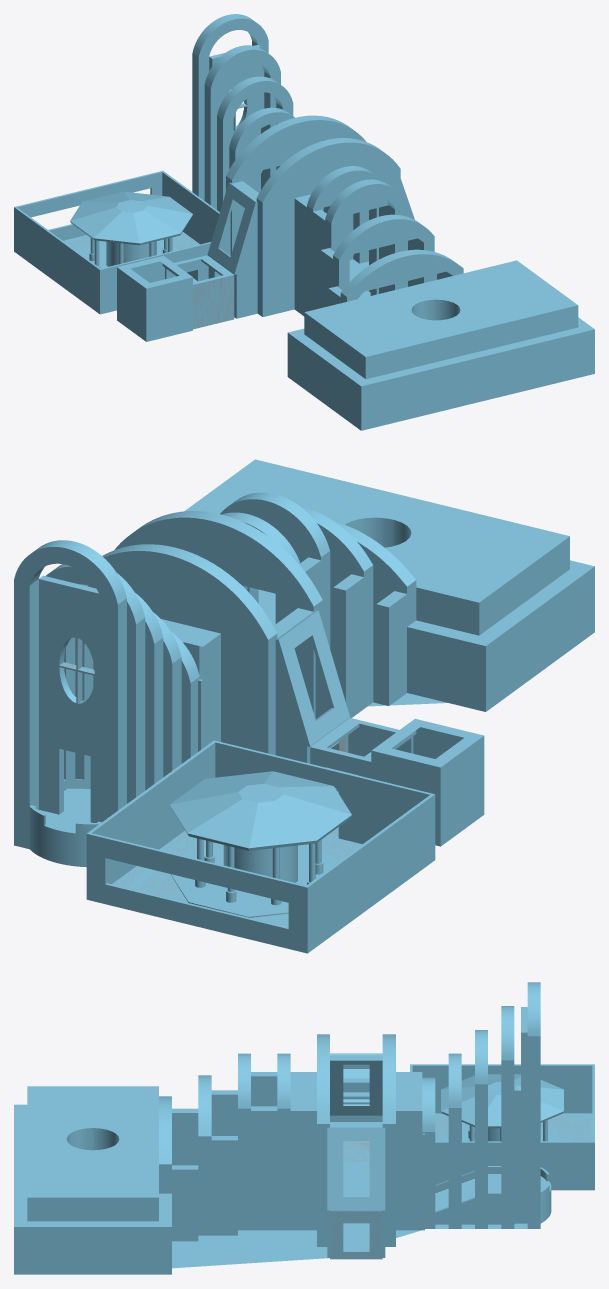
The model's file is Level 2 full.fbx.
3 views of the same model, one above another, from view 1: azimuth 30°, elevation 25°; view 2: azimuth 150°, elevation 25°; view 3: azimuth 270°, elevation 25° (orthographic). The views are drawn at different scales.
Parts seen in each view (by area): view 1: Model, Group1; view 2: Model, Group1; view 3: Model, Group1.
Boxes of the visible parts, x1,y1,x2,y2 form: Model: [117, 14, 594, 430]; Group1: [14, 171, 219, 314]; Model: [14, 459, 594, 867]; Group1: [86, 740, 435, 953]; Model: [14, 982, 551, 1274]; Group1: [410, 1064, 594, 1190].
Bounding box in the file's own units: 1753 × 1128 × 2647.
